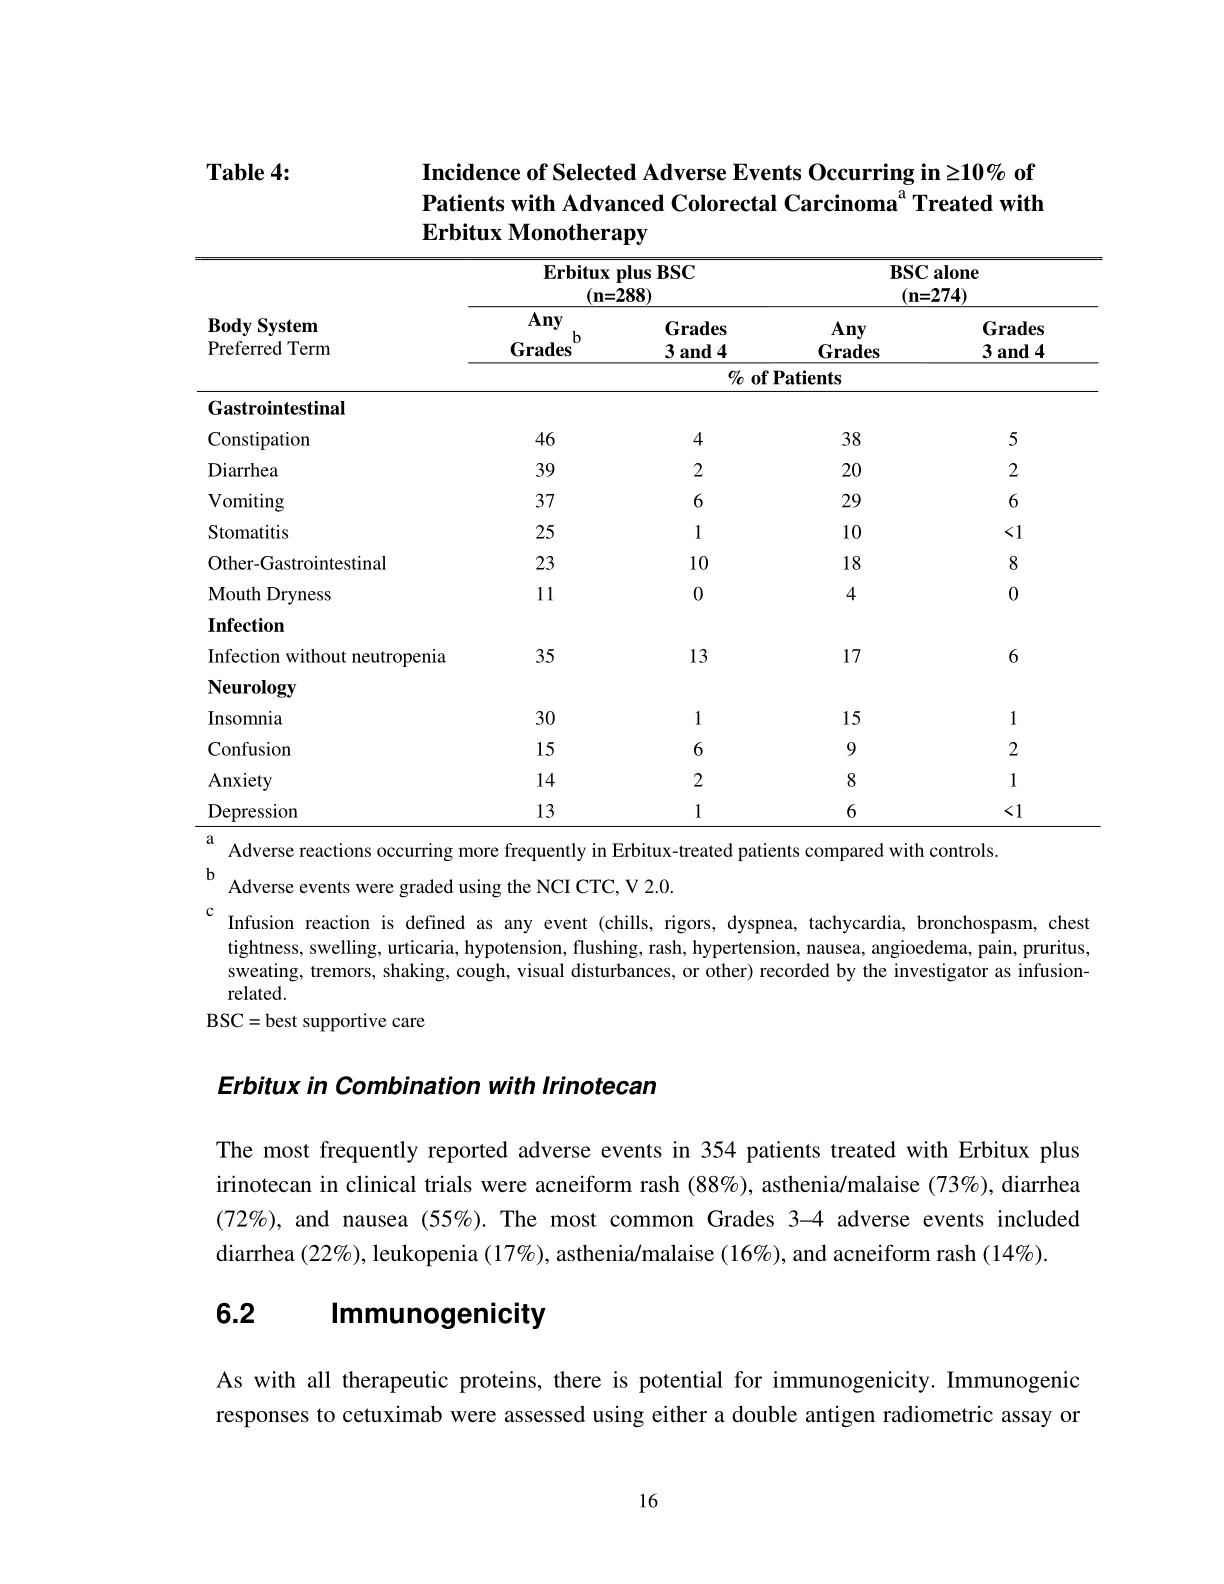partial_lined_merged_cells: (192, 247, 1110, 833)
